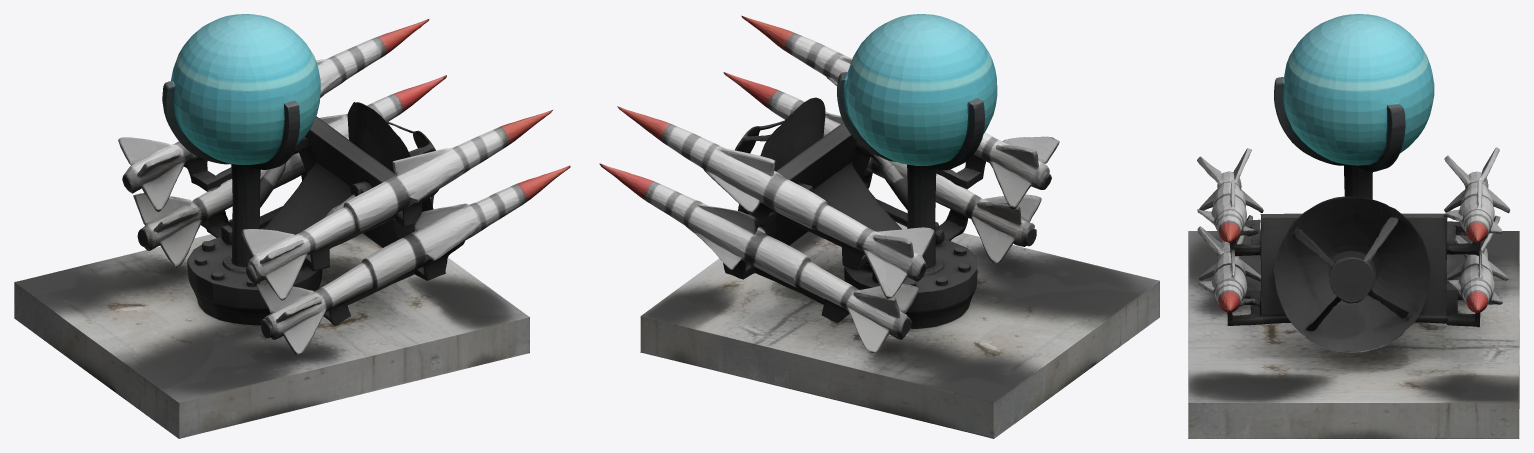
The model's file is src.glb.
The picture shows the model from 3 angles, left to right: view 1: azimuth 30°, elevation 25°; view 2: azimuth 150°, elevation 25°; view 3: azimuth 270°, elevation 25°; orthographic projection.
Parts seen in each view (by area): view 1: world; view 2: world; view 3: world.
Part boxes in pixels (bbox=[...]): world: bbox=[14, 14, 570, 438]; world: bbox=[599, 14, 1159, 438]; world: bbox=[1188, 14, 1519, 438].
Size of the model in its own units: 0.9989 by 0.7393 by 0.6917.
Materials: 1 (1 with a texture image).
